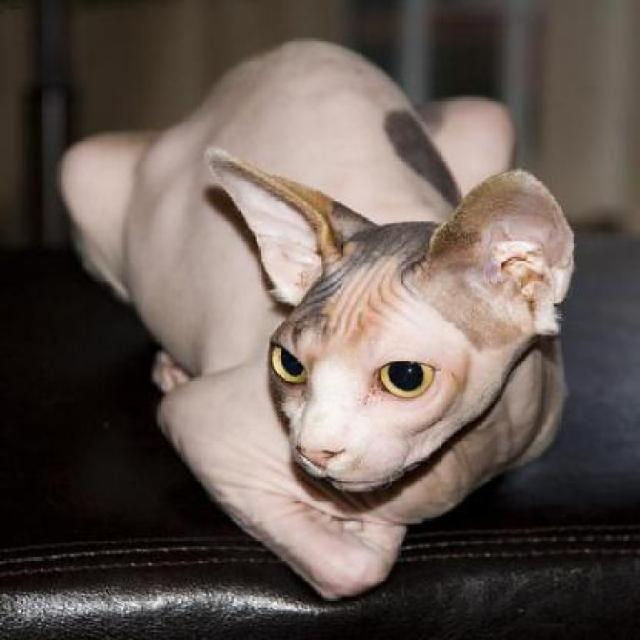cat: (58, 40, 577, 598)
